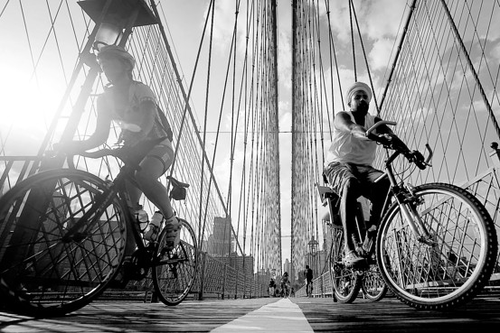bikerider: (5, 35, 204, 311), (317, 71, 498, 315)
